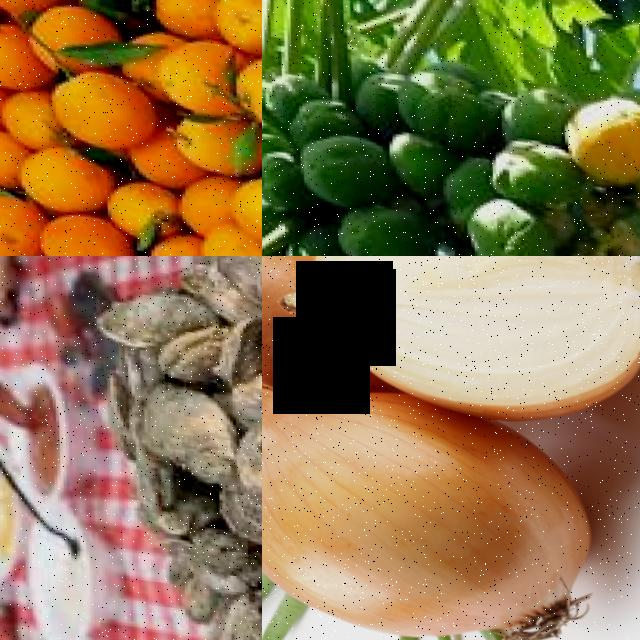onion: (262, 384, 596, 640), (301, 256, 640, 425)
orange: (44, 61, 157, 148), (11, 140, 112, 210), (152, 28, 236, 109), (27, 205, 130, 256), (106, 171, 178, 235), (219, 160, 262, 243), (229, 41, 262, 128), (0, 15, 38, 87), (0, 189, 38, 256), (194, 223, 262, 256), (141, 227, 209, 256), (0, 125, 26, 187)
pawpaw: (561, 82, 640, 182), (480, 127, 573, 205), (289, 129, 381, 203), (331, 198, 432, 256), (459, 196, 546, 256)
